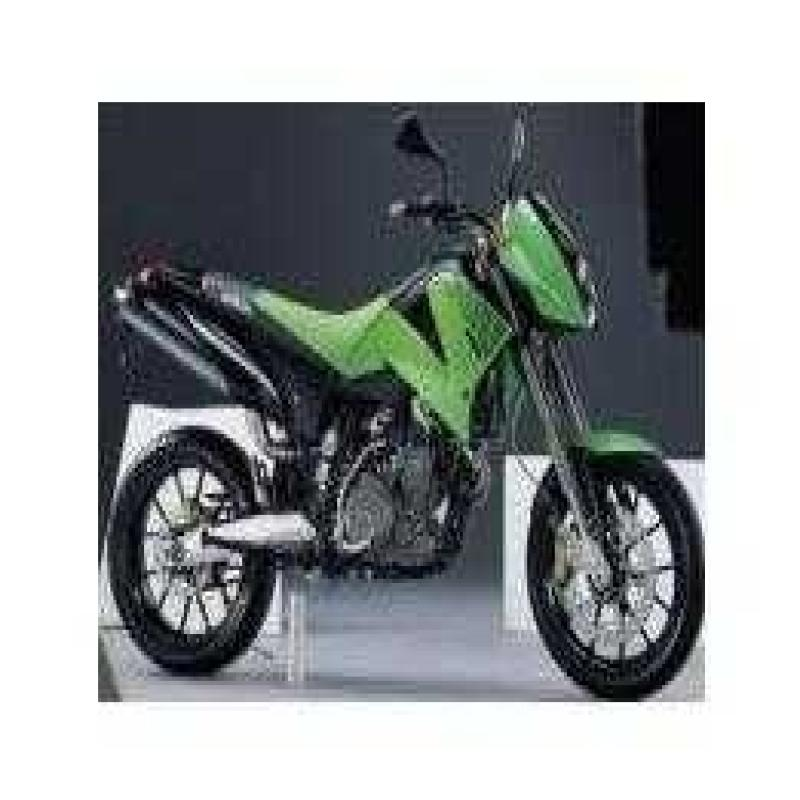bike: (98, 110, 707, 709)
